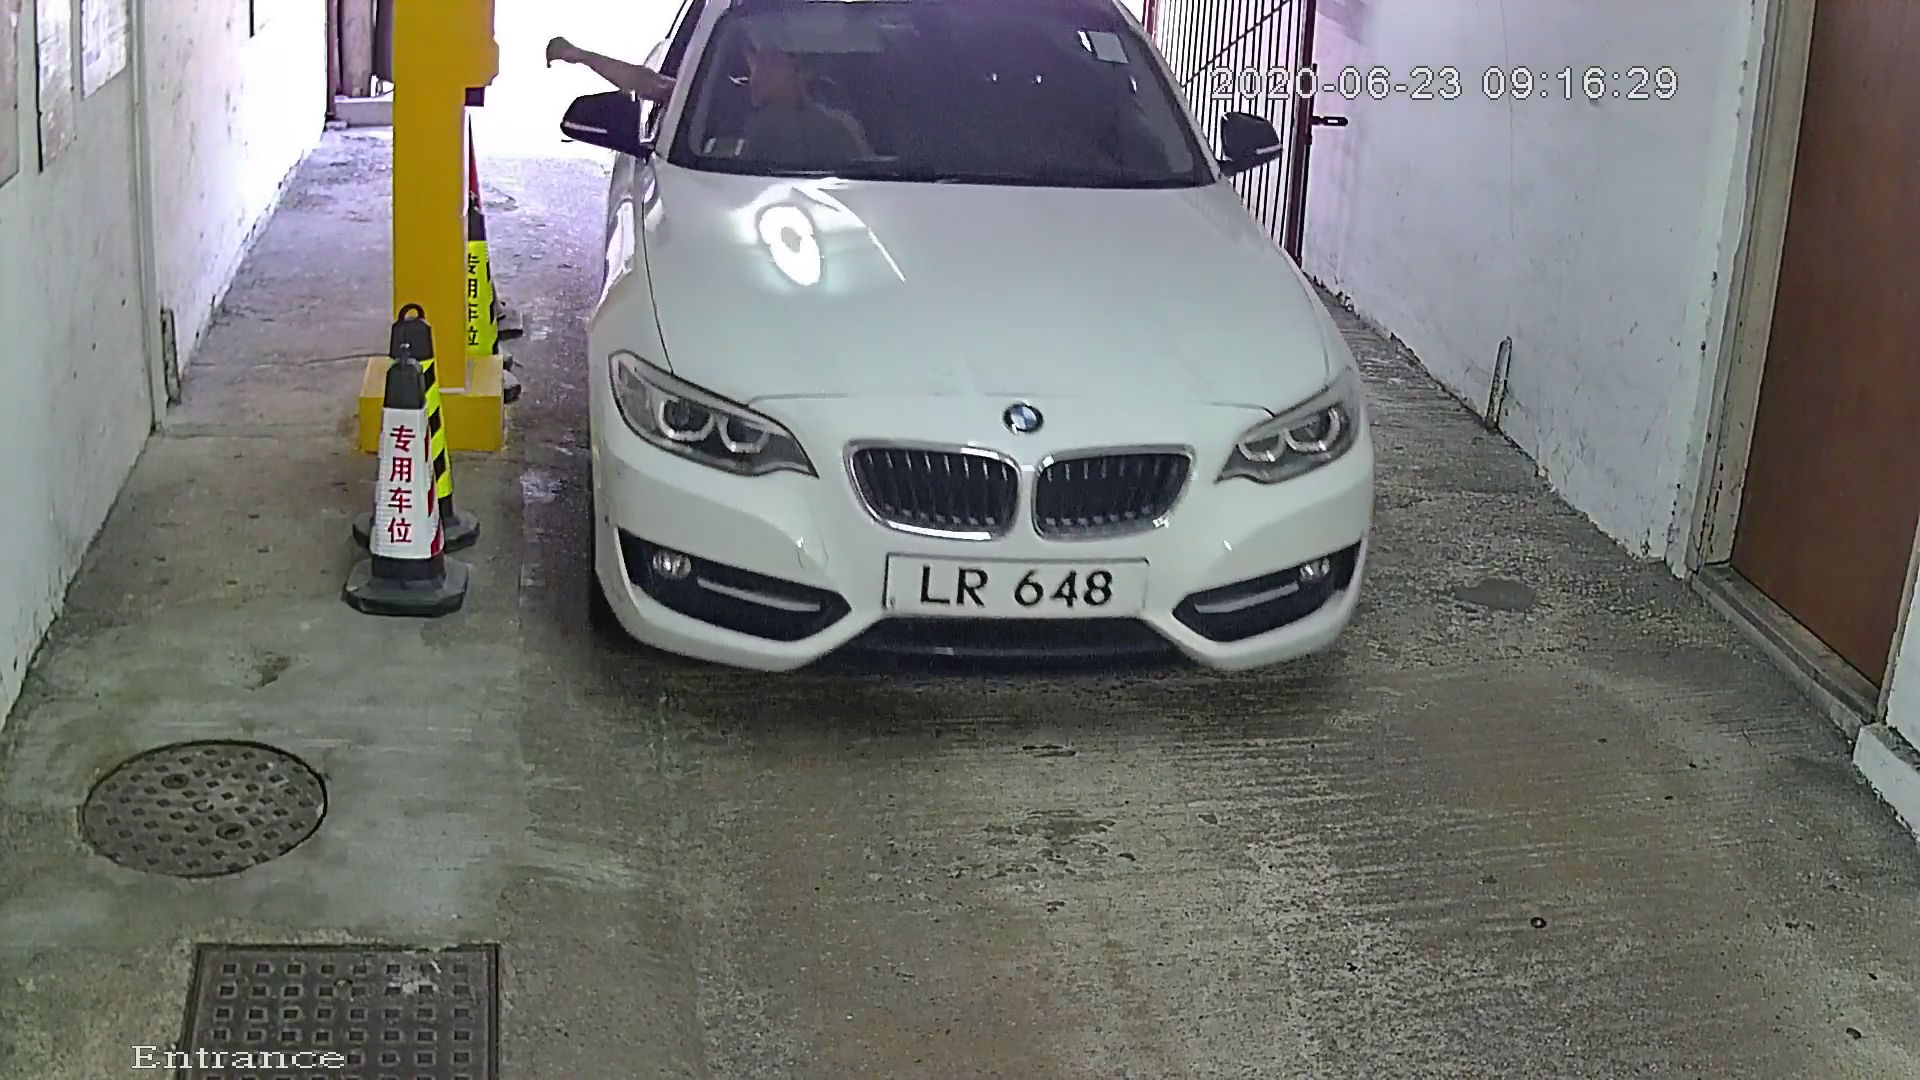privatecar: (502, 1, 1503, 771)
